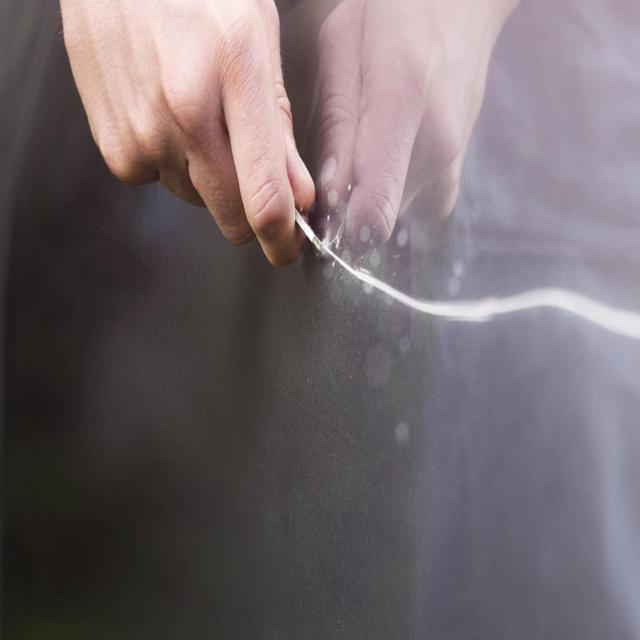scratch: (346, 239, 600, 347)
